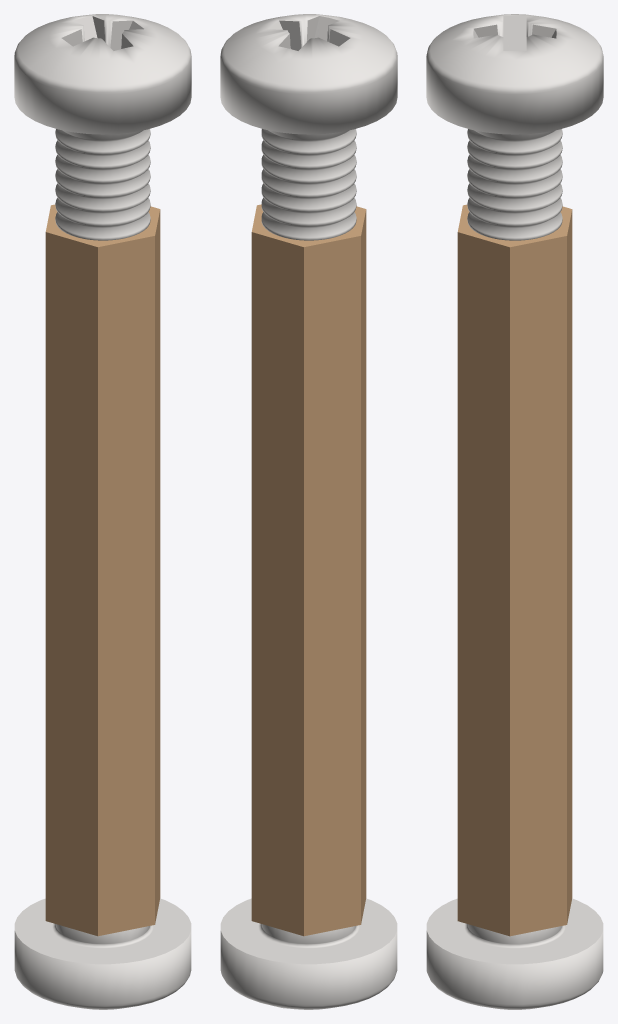
File: caster_stand.dae
3 views of the same model, side by side, from view 1: azimuth 30°, elevation 25°; view 2: azimuth 150°, elevation 25°; view 3: azimuth 270°, elevation 25° (orthographic).
Visible parts, largest first — view 1: panFBXASC032headFBXASC032crossFBXASC032recessFBXASC032screw_; view 2: panFBXASC032headFBXASC032crossFBXASC032recessFBXASC032screw_; view 3: panFBXASC032headFBXASC032crossFBXASC032recessFBXASC032screw_.
Part boxes in pixels (bbox=[...]): panFBXASC032headFBXASC032crossFBXASC032recessFBXASC032screw_: bbox=[14, 14, 191, 1009]; panFBXASC032headFBXASC032crossFBXASC032recessFBXASC032screw_: bbox=[220, 14, 397, 1009]; panFBXASC032headFBXASC032crossFBXASC032recessFBXASC032screw_: bbox=[426, 14, 603, 1009].
Size of the model in its own units: 0.0056 by 0.0056 by 0.0336.
